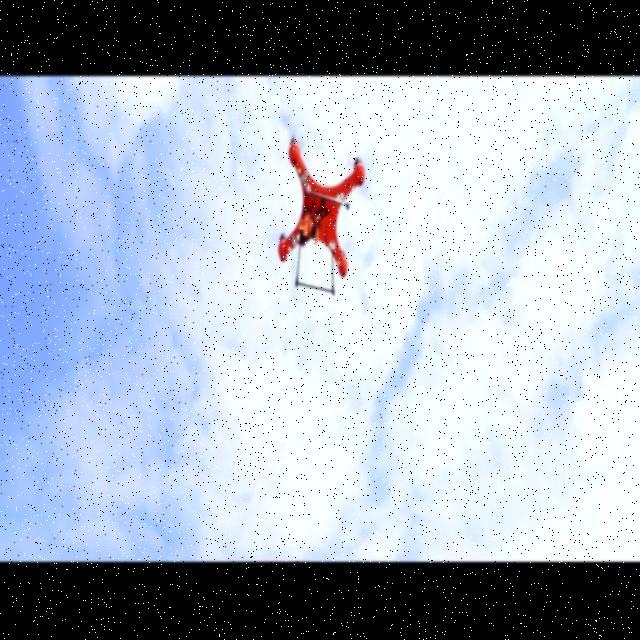UAV: (278, 137, 364, 295)
